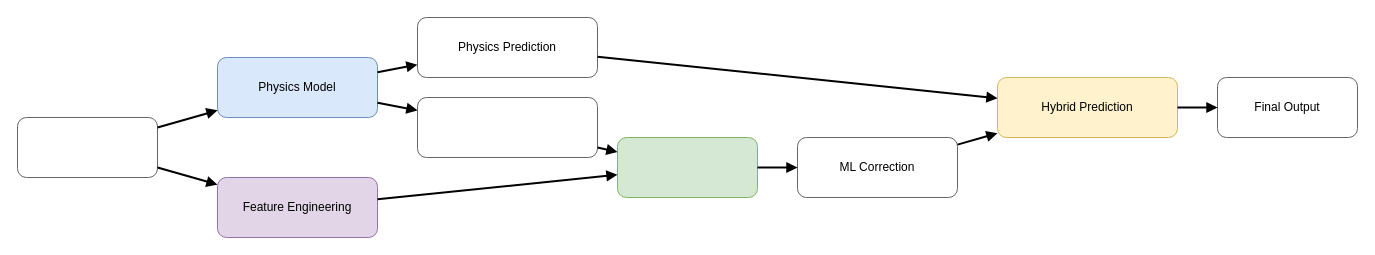
Some shapes in this 1375 by 255 pixel diagram are drawn without their labels. Here are the shapes that lost their labels. From the top down, the centre of each, then its label:
At [87,147]: "Battery Data".
At [507,127]: "Residual Calculation".
At [687,167]: "ML Model".
